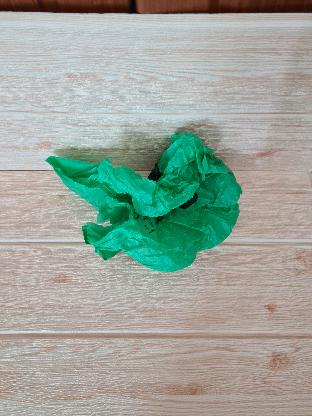Plastic Bag: (56, 134, 246, 274)
